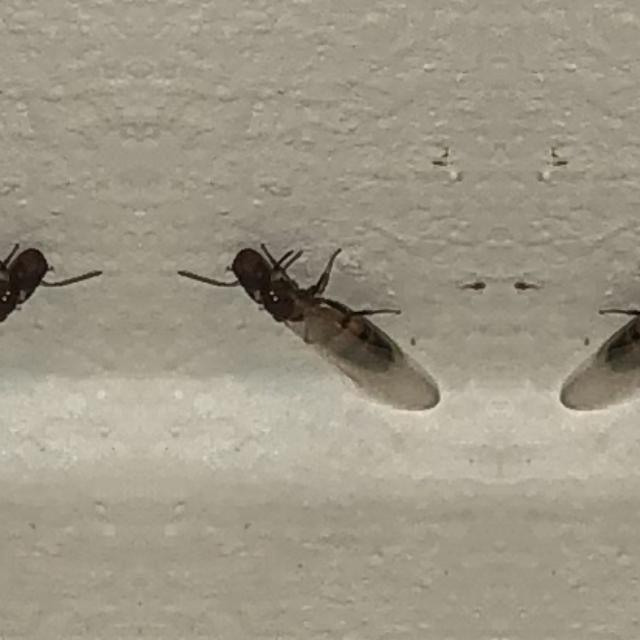Colobopsis: (210, 207, 440, 439), (560, 207, 640, 439), (0, 207, 68, 439)
